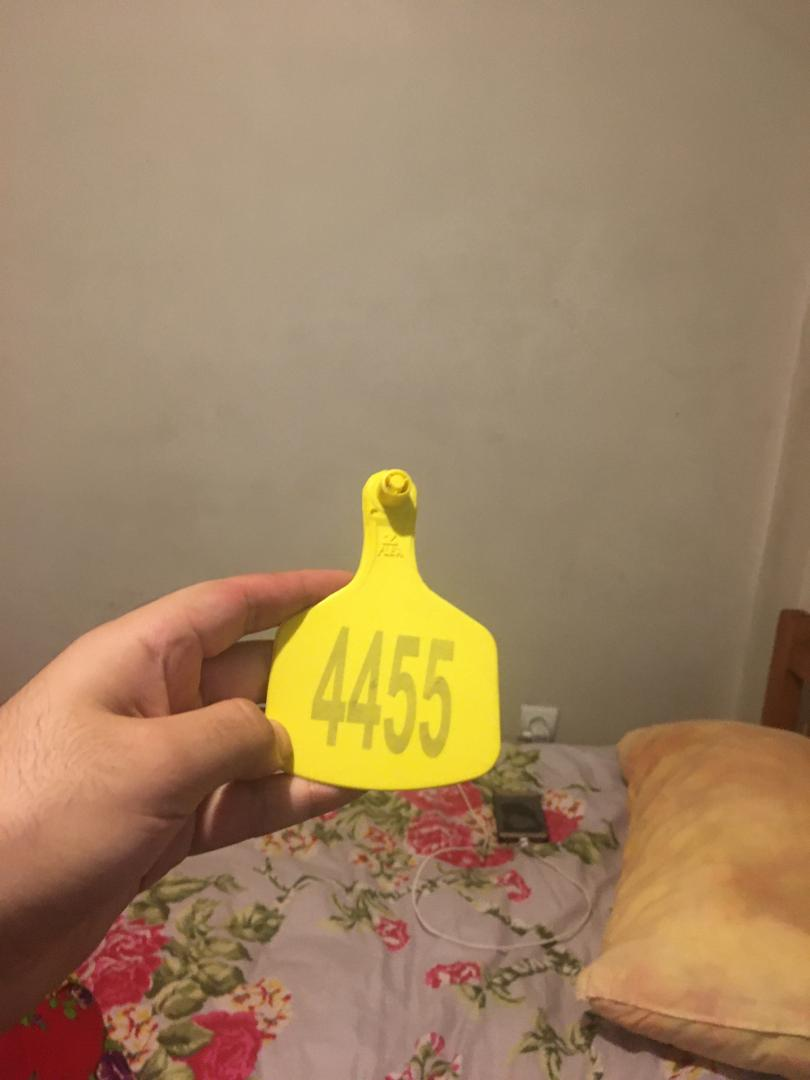digit: (310, 619, 457, 760)
